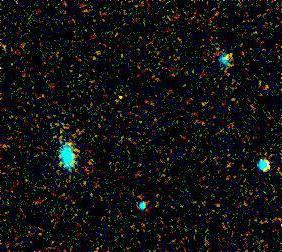star: (112, 81, 142, 111)
